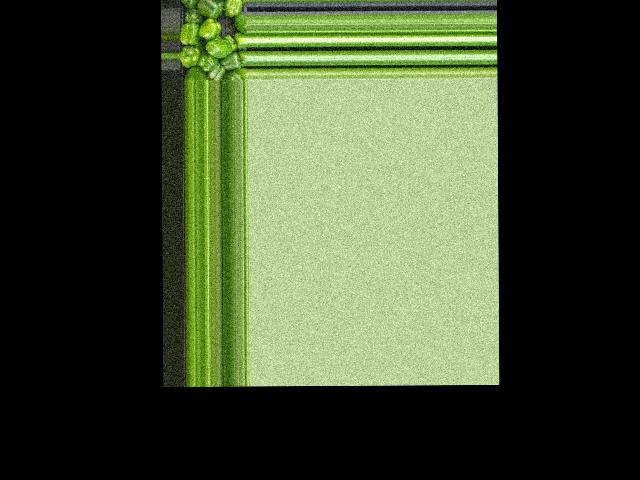bell_pepper: (189, 66, 208, 81)
